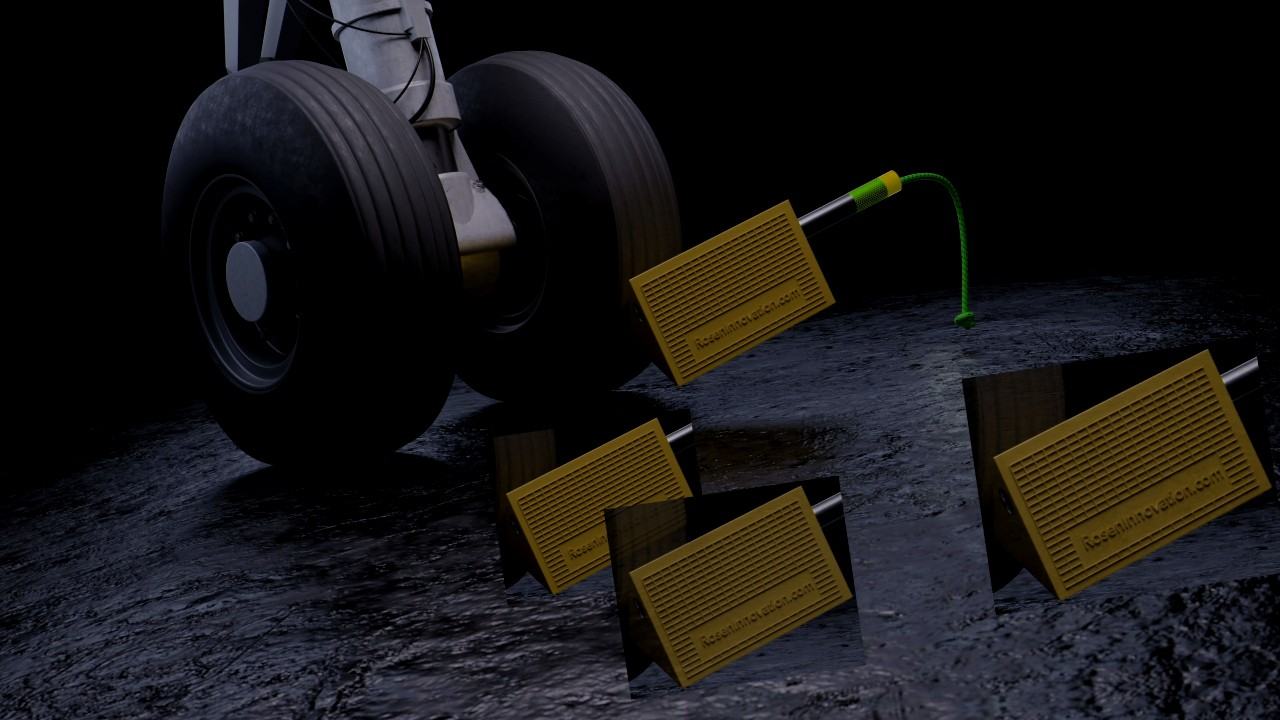chock: (962, 336, 1280, 615), (603, 475, 866, 699), (605, 190, 848, 397), (484, 409, 714, 605)
wheel: (130, 35, 487, 491), (399, 25, 705, 421)
